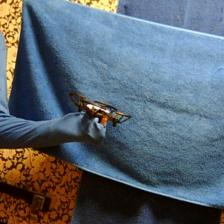drone: (68, 92, 131, 127)
